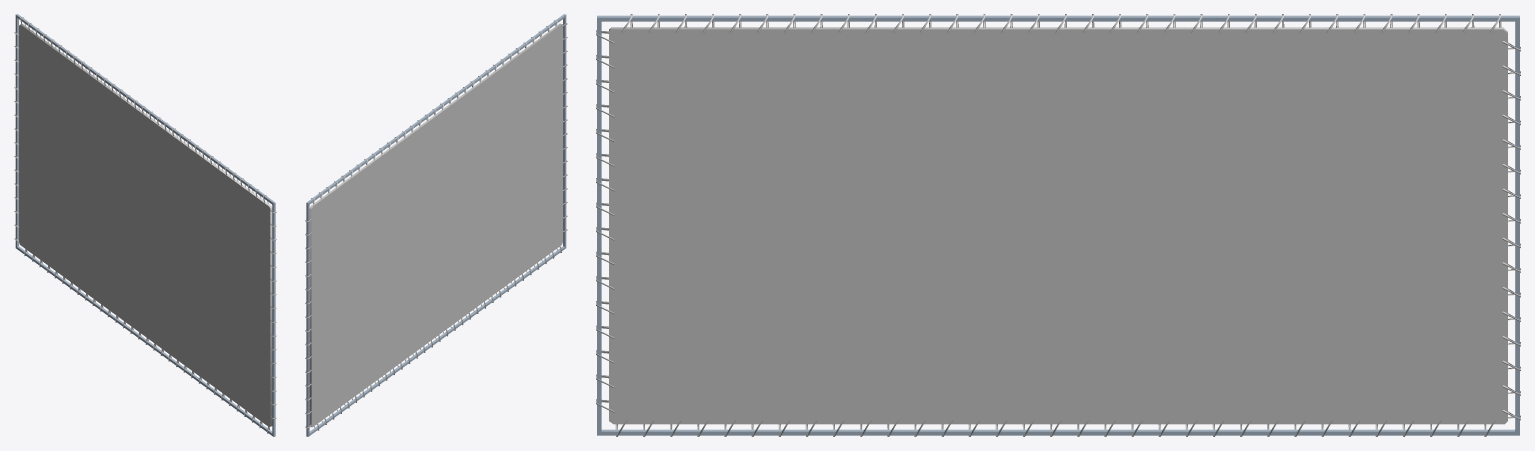
Rendered from banner.fbx.
3 views of the same model, side by side, from view 1: azimuth 30°, elevation 25°; view 2: azimuth 150°, elevation 25°; view 3: azimuth 270°, elevation 25° (orthographic). The views are drawn at different scales.
Visible parts, largest first — view 1: banner; view 2: banner; view 3: banner.
Boxes of the visible parts, x1,y1,x2,y2 form: banner: (14, 14, 276, 436); banner: (305, 14, 567, 436); banner: (596, 14, 1520, 436).
Bounding box in the file's own units: 4.87 × 301 × 601.
